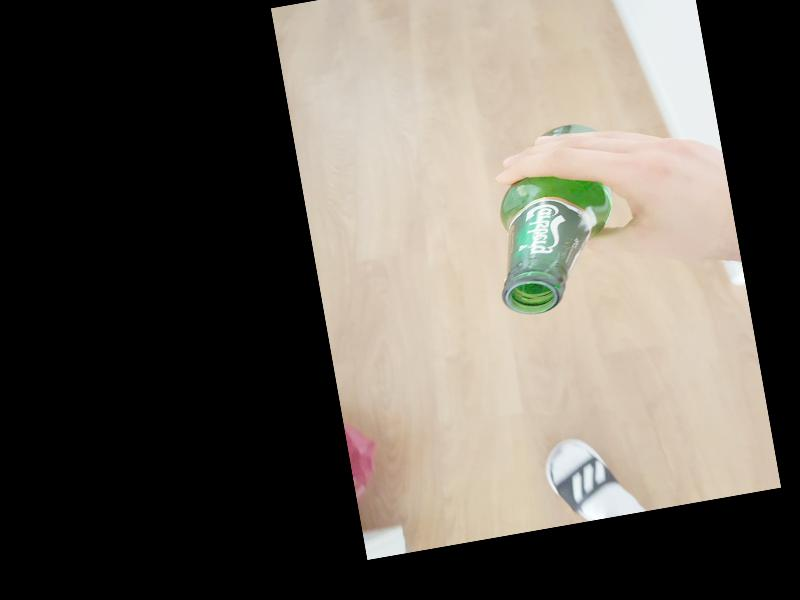Beer: (473, 120, 628, 319)
